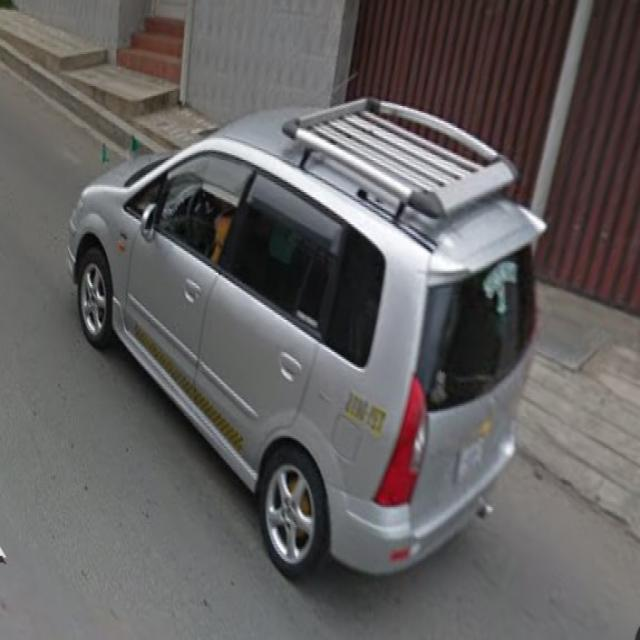cars: (73, 45, 550, 583)
